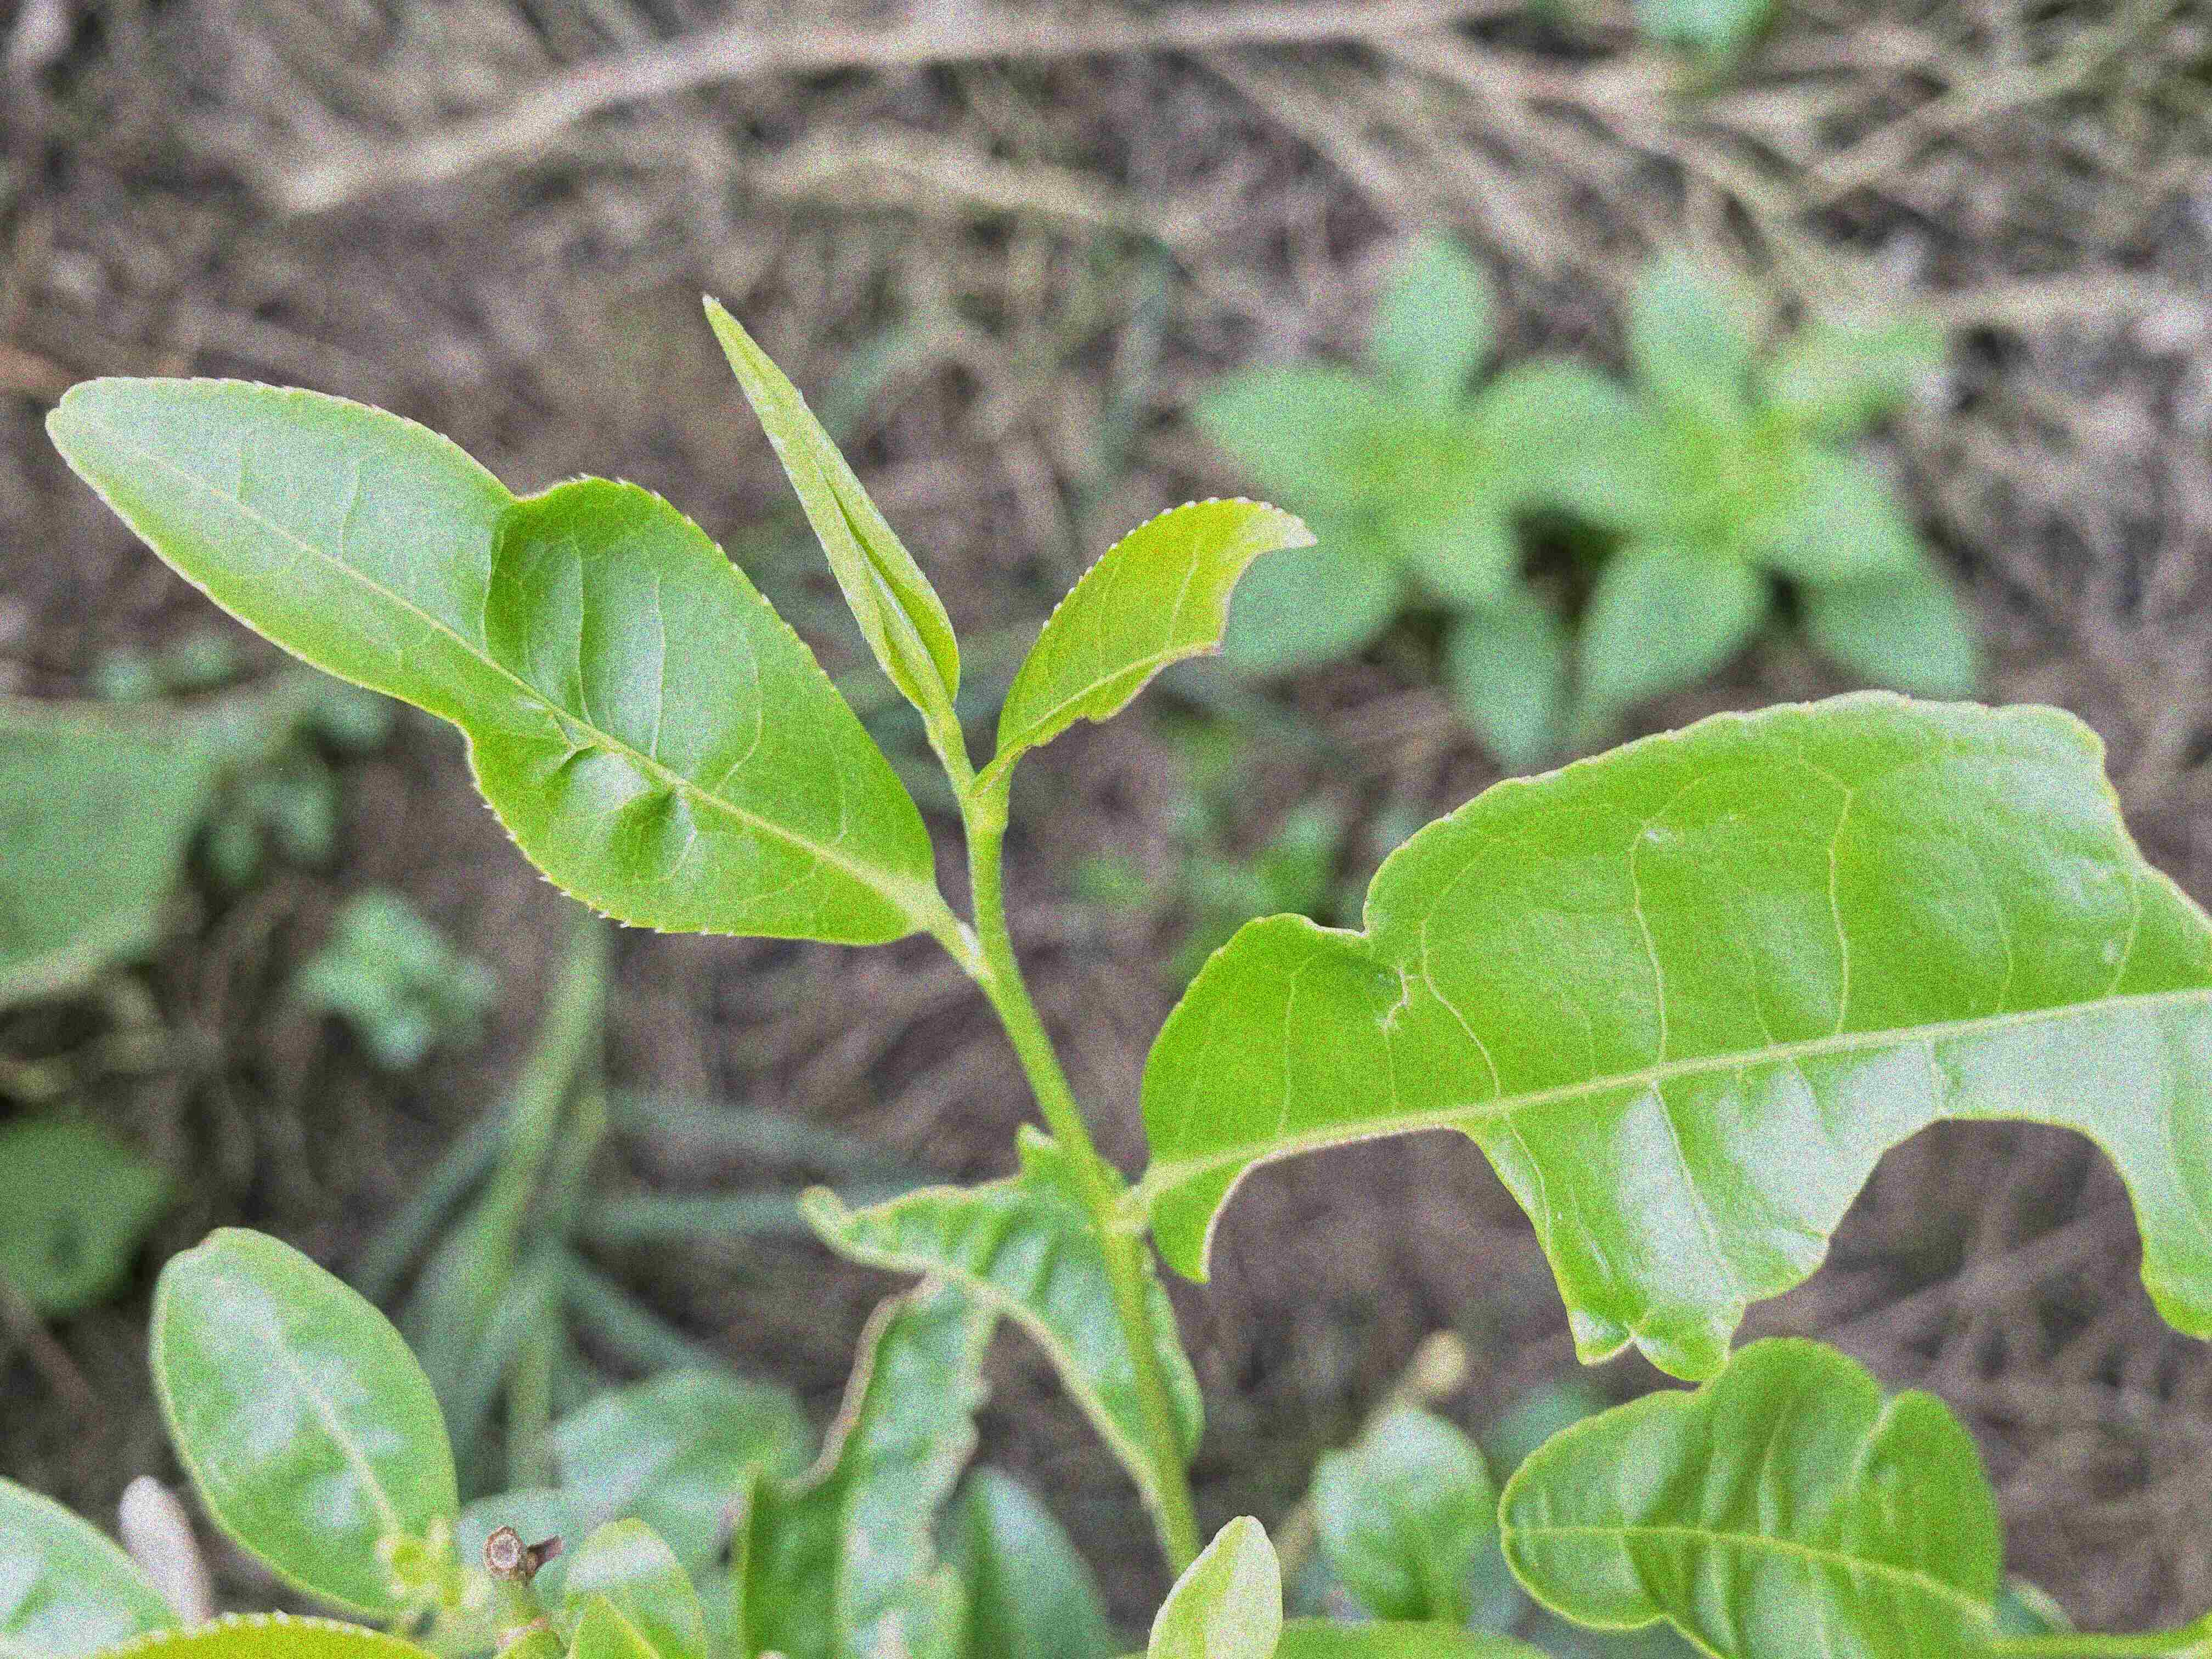chihuo_high: (1139, 688, 2207, 1384), (798, 1124, 1209, 1504), (967, 495, 1318, 803), (735, 1276, 1005, 1656)
healthy: (44, 369, 937, 946)
